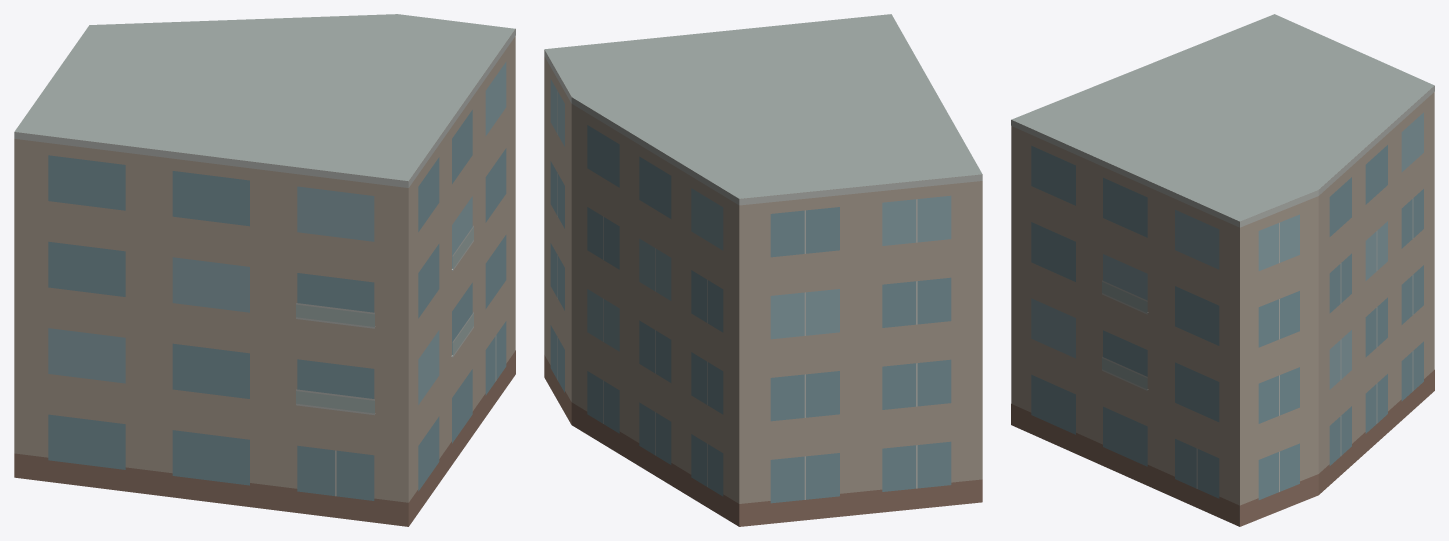
The model's file is residential-95cdf97b-e29a-4372-bd62-45e3b98ed2f5.glb.
3 renders of one model, left to right at view 1: azimuth 30°, elevation 25°; view 2: azimuth 150°, elevation 25°; view 3: azimuth 270°, elevation 25°, orthographic. The views are drawn at different scales.
Parts seen in each view (by area): view 1: residential-95cdf97b-e29a-4372-bd62-45e3b98ed2f5.tmp; view 2: residential-95cdf97b-e29a-4372-bd62-45e3b98ed2f5.tmp; view 3: residential-95cdf97b-e29a-4372-bd62-45e3b98ed2f5.tmp.
Part boxes in pixels (bbox=[...]): residential-95cdf97b-e29a-4372-bd62-45e3b98ed2f5.tmp: bbox=[14, 14, 515, 526]; residential-95cdf97b-e29a-4372-bd62-45e3b98ed2f5.tmp: bbox=[544, 14, 982, 526]; residential-95cdf97b-e29a-4372-bd62-45e3b98ed2f5.tmp: bbox=[1011, 14, 1434, 526].
Size of the model in its own units: 17.8 by 12.2 by 15.35.
